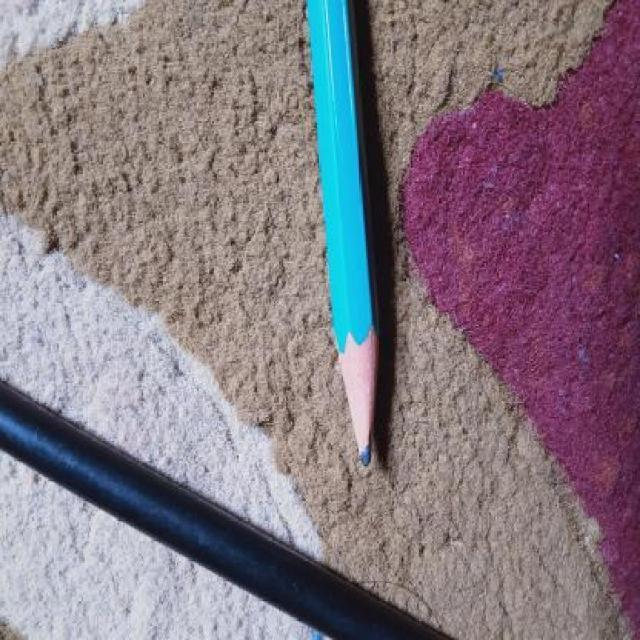Pencil: (326, 312, 394, 478)
